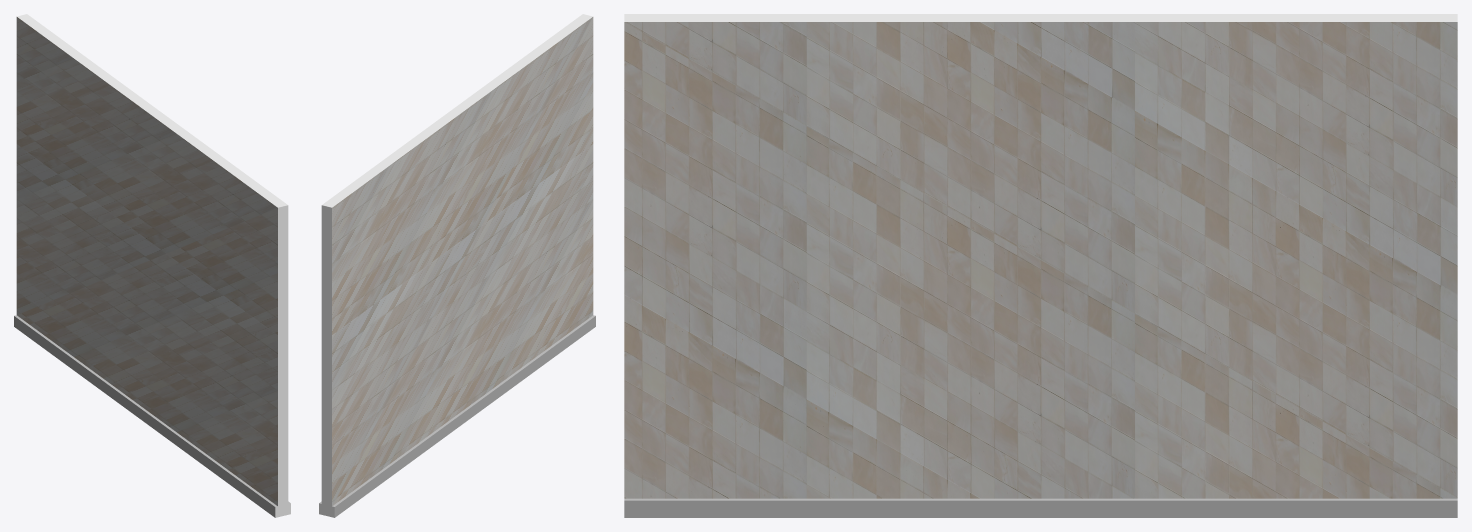
The model's file is Pared_Int_DosCaras_Pequena.fbx.
3 renders of one model, left to right at view 1: azimuth 30°, elevation 25°; view 2: azimuth 150°, elevation 25°; view 3: azimuth 270°, elevation 25°, orthographic. The views are drawn at different scales.
Visible parts, largest first — view 1: Pared_Int_DosCaras_Pequena; view 2: Pared_Int_DosCaras_Pequena; view 3: Pared_Int_DosCaras_Pequena.
Boxes of the visible parts, x1,y1,x2,y2 form: Pared_Int_DosCaras_Pequena: (14, 14, 290, 517); Pared_Int_DosCaras_Pequena: (319, 14, 595, 517); Pared_Int_DosCaras_Pequena: (624, 14, 1457, 517).
Size of what is drawn, in the model's own units: 7.09 by 134 by 205.
